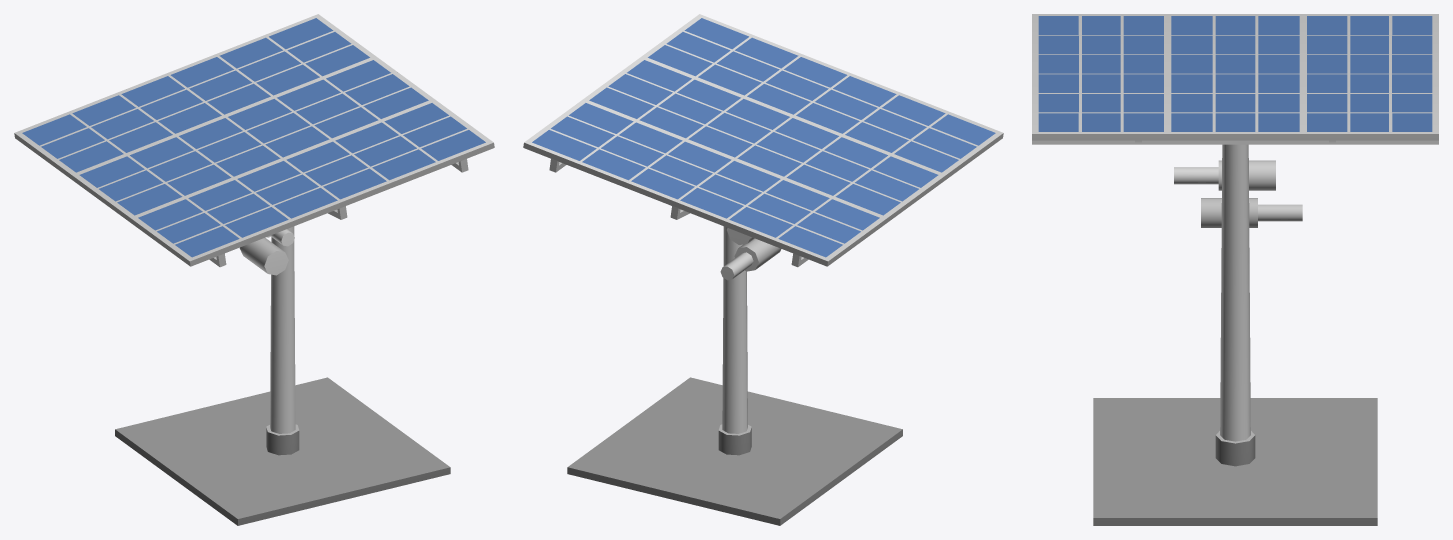
Rendered from solar_panel.obj.
3 renders of one model, left to right at view 1: azimuth 30°, elevation 25°; view 2: azimuth 150°, elevation 25°; view 3: azimuth 270°, elevation 25°, orthographic. The views are drawn at different scales.
Parts seen in each view (by area): view 1: Plane_003_Environment.2, Cylinder_Environment.1; view 2: Plane_003_Environment.2, Cylinder_Environment.1; view 3: Plane_003_Environment.2, Cylinder_Environment.1.
Part boxes in pixels (x1,y1,x2,y2): Plane_003_Environment.2: [14, 14, 494, 267]; Cylinder_Environment.1: [115, 226, 450, 525]; Plane_003_Environment.2: [523, 14, 1003, 267]; Cylinder_Environment.1: [567, 226, 902, 525]; Plane_003_Environment.2: [1032, 14, 1438, 144]; Cylinder_Environment.1: [1093, 144, 1377, 525].
Size of the model in its own units: 1.04 by 1.13 by 1.03.
Materials: 2 (2 with a texture image).
